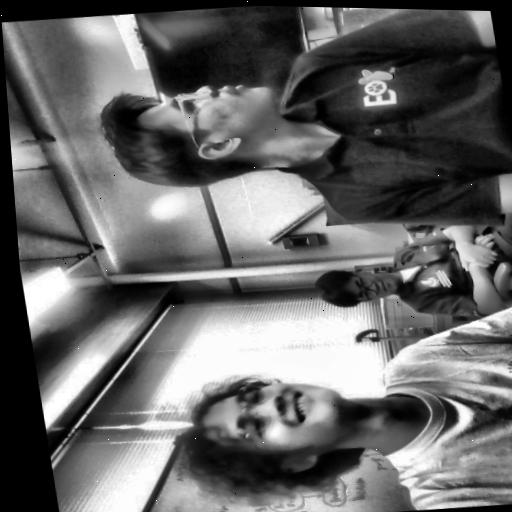Daifuku: (150, 361, 383, 512)
Not Daifuku: (94, 73, 297, 198), (312, 263, 403, 312)
